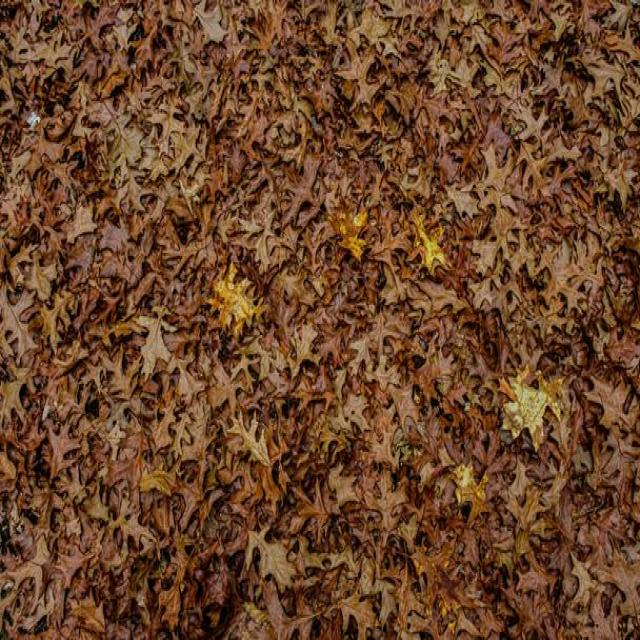organic waste: (5, 4, 638, 636)
